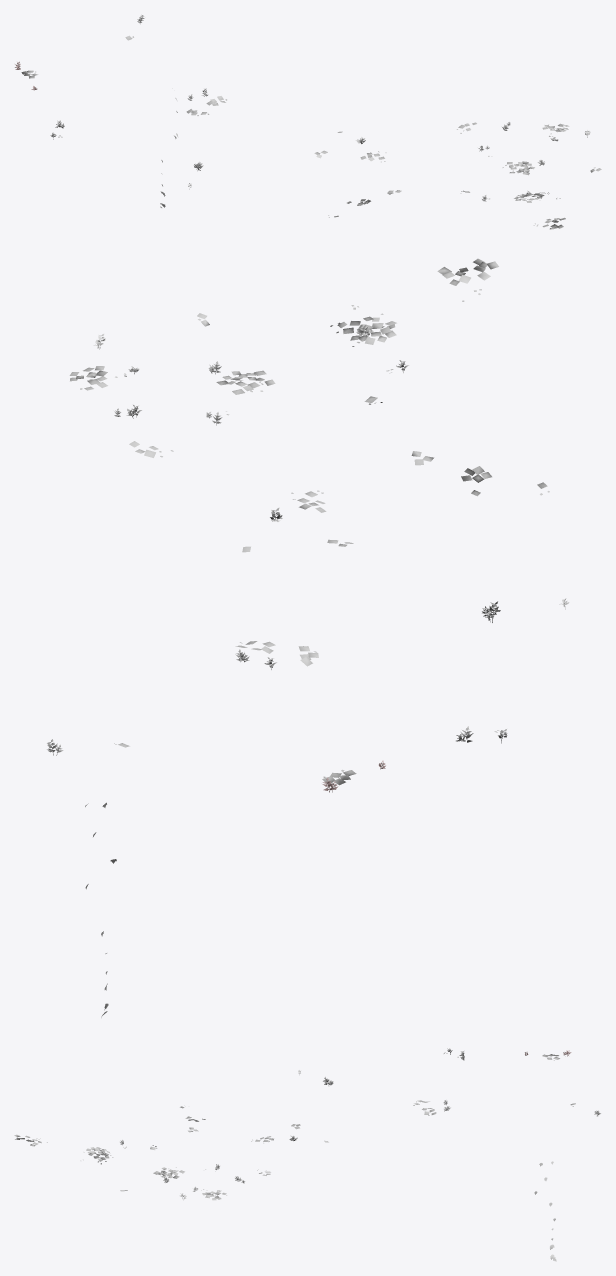
Rendered from GrassA1293_1__GrassFlowerSet00.dae.
3 views of the same model, one above another, from view 1: azimuth 30°, elevation 25°; view 2: azimuth 150°, elevation 25°; view 3: azimuth 270°, elevation 25° (orthographic). The views are drawn at different scales.
Parts seen in each view (by area): view 1: GrassA1293_1__GrassFlowerSet00; view 2: GrassA1293_1__GrassFlowerSet00; view 3: GrassA1293_1__GrassFlowerSet00.
Boxes of the visible parts, bbox=[...] form: GrassA1293_1__GrassFlowerSet00: bbox=[15, 14, 601, 229]; GrassA1293_1__GrassFlowerSet00: bbox=[47, 258, 569, 1017]; GrassA1293_1__GrassFlowerSet00: bbox=[14, 1048, 600, 1261].
Bounding box in the file's own units: 6088 × 2783 × 9136.
